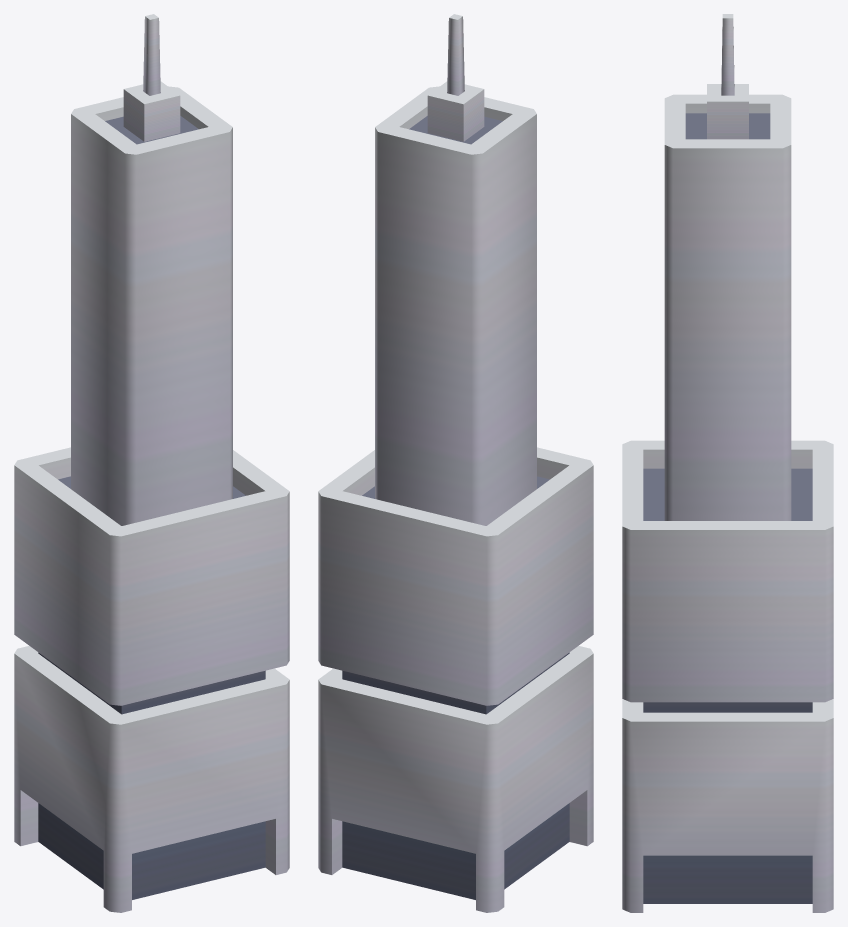
Rendered from low-detail-building-b.glb.
3 views of the same model, side by side, from view 1: azimuth 30°, elevation 25°; view 2: azimuth 150°, elevation 25°; view 3: azimuth 270°, elevation 25° (orthographic).
Visible parts, largest first — view 1: low-detail-building-b; view 2: low-detail-building-b; view 3: low-detail-building-b.
Boxes of the visible parts, x1,y1,x2,y2 form: low-detail-building-b: [14, 14, 289, 912]; low-detail-building-b: [318, 14, 593, 912]; low-detail-building-b: [622, 14, 833, 912].
Size of the model in its own units: 0.5 by 2.23 by 0.5.
Materials: 1 (1 with a texture image).
